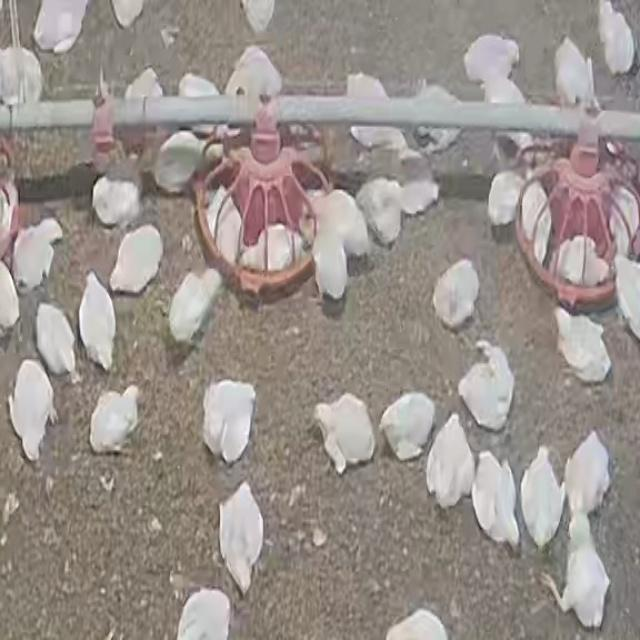chicken: (553, 517, 611, 629), (218, 480, 264, 595), (7, 360, 58, 461), (312, 393, 377, 472), (458, 343, 514, 433), (201, 379, 257, 465), (343, 73, 402, 153), (471, 451, 520, 547), (518, 447, 564, 549), (168, 266, 225, 347), (307, 188, 372, 257), (553, 307, 611, 384), (224, 46, 282, 123), (562, 432, 612, 520), (425, 417, 473, 507), (553, 36, 602, 123), (77, 270, 118, 370), (409, 80, 463, 154), (152, 131, 213, 196), (489, 78, 538, 157), (12, 218, 63, 293), (380, 391, 434, 460), (110, 224, 162, 294), (89, 386, 141, 456), (461, 34, 521, 92), (34, 301, 78, 378), (355, 176, 404, 245), (432, 260, 480, 330), (239, 222, 305, 272), (32, 1, 94, 54), (305, 229, 350, 301), (600, 179, 640, 257), (176, 71, 223, 136), (552, 236, 610, 288), (396, 151, 440, 219), (90, 172, 142, 228), (122, 68, 164, 137), (597, 1, 635, 76), (0, 46, 43, 108), (612, 255, 640, 347), (211, 190, 243, 265), (485, 168, 524, 227), (519, 178, 550, 251)
